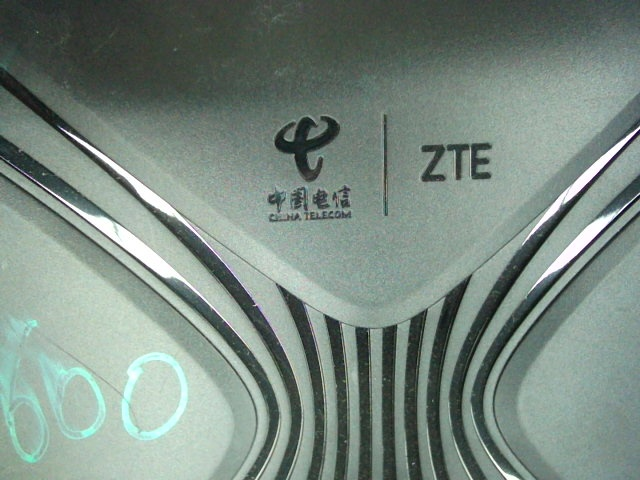AX_ZTEChinaTelecom: (248, 109, 496, 222)
